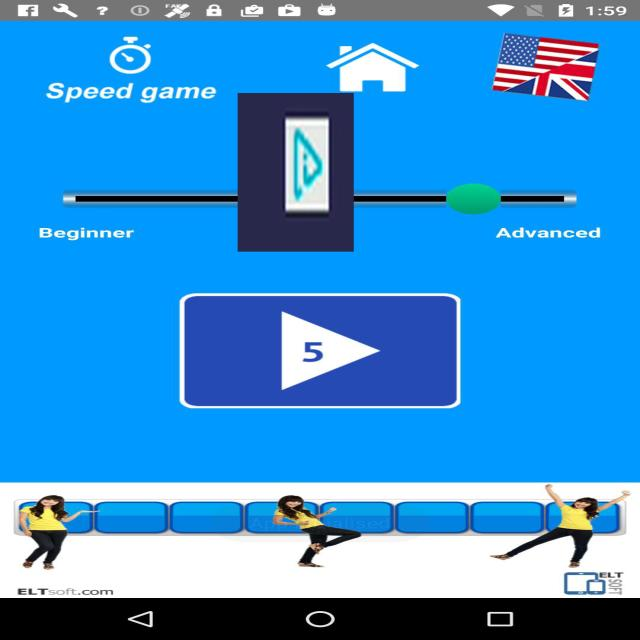sneaking: (238, 93, 354, 252)
